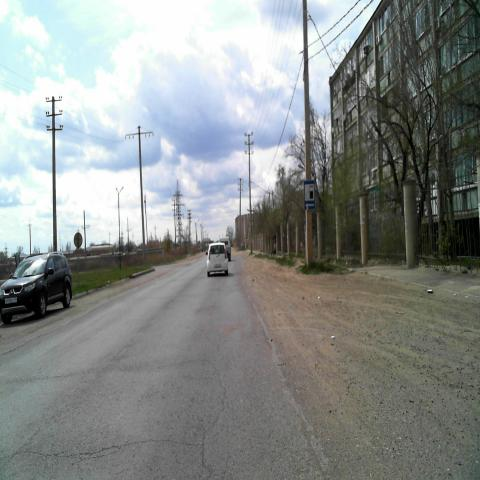7_3: (304, 180, 315, 209)
